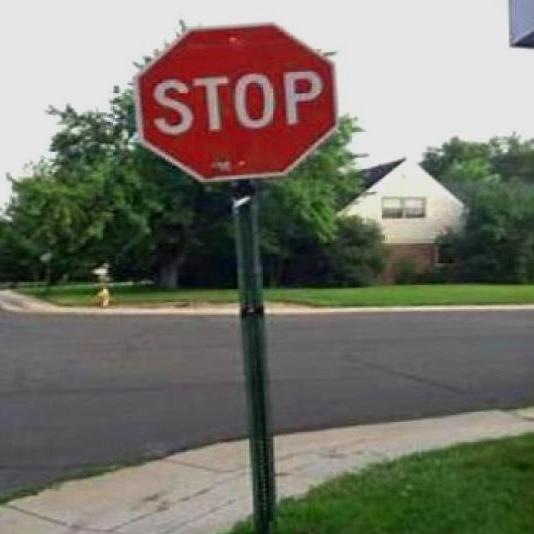stop_sign: (121, 11, 350, 183)
